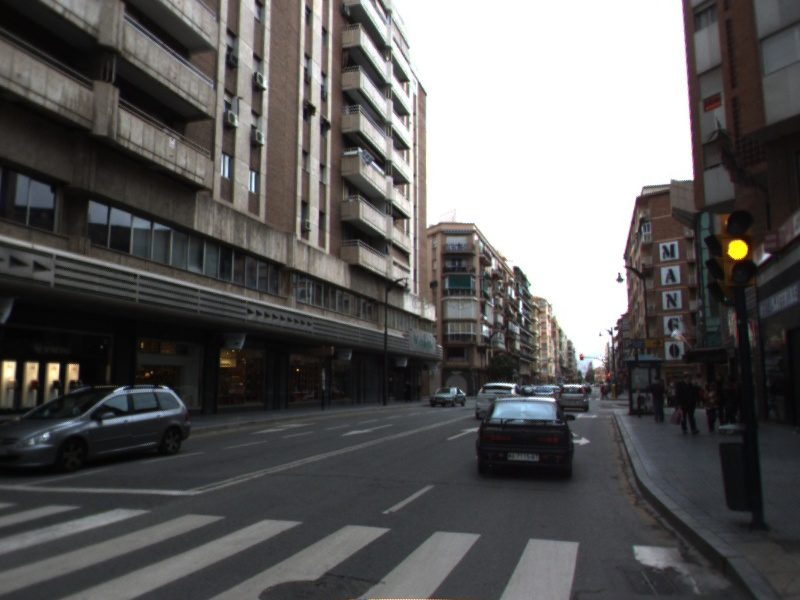STRAIGHT: (444, 424, 483, 442)
STRAIGHT_RIGHT: (573, 410, 600, 420)
